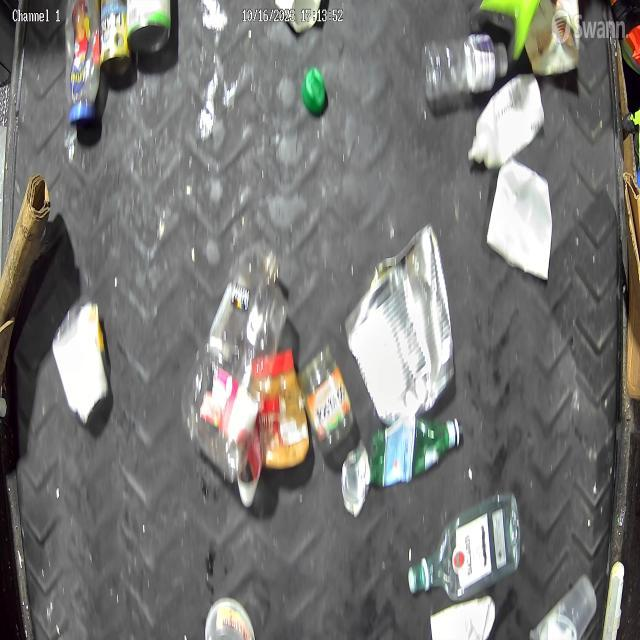can: (125, 0, 178, 67), (100, 4, 132, 74)
plastic_bottle: (372, 408, 462, 486), (418, 33, 512, 103)
